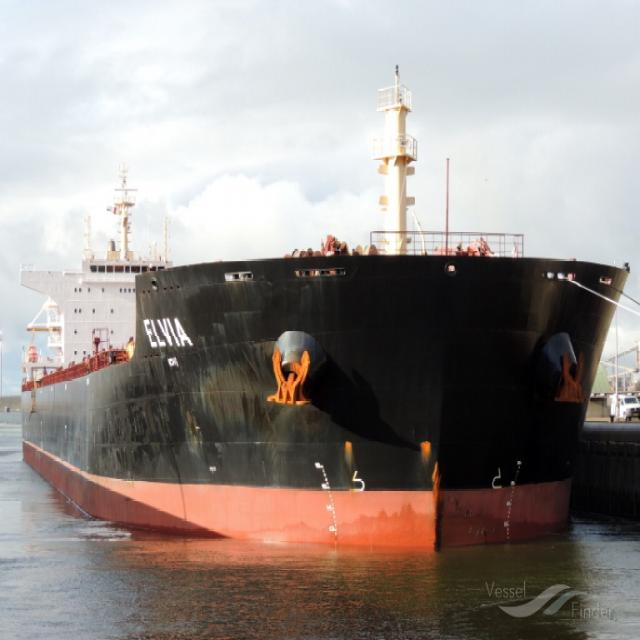OCR: (139, 312, 198, 356)
